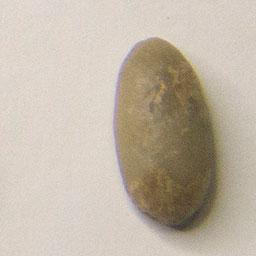longberry: (110, 33, 219, 232)
